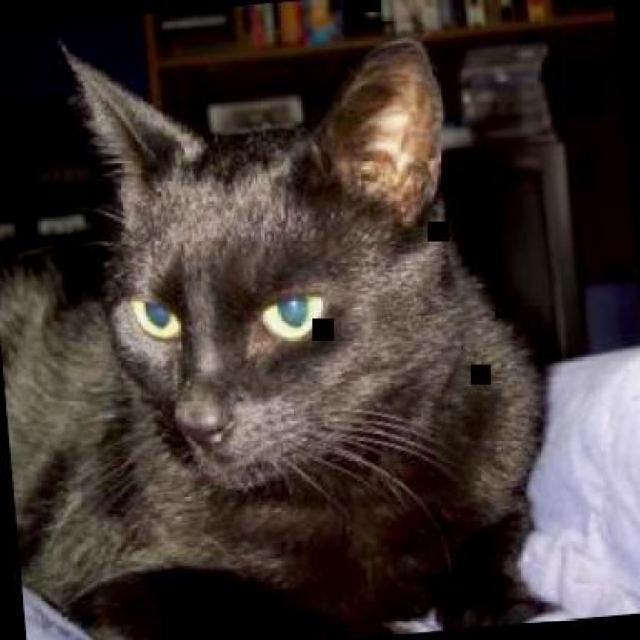cat: (0, 3, 562, 639)
